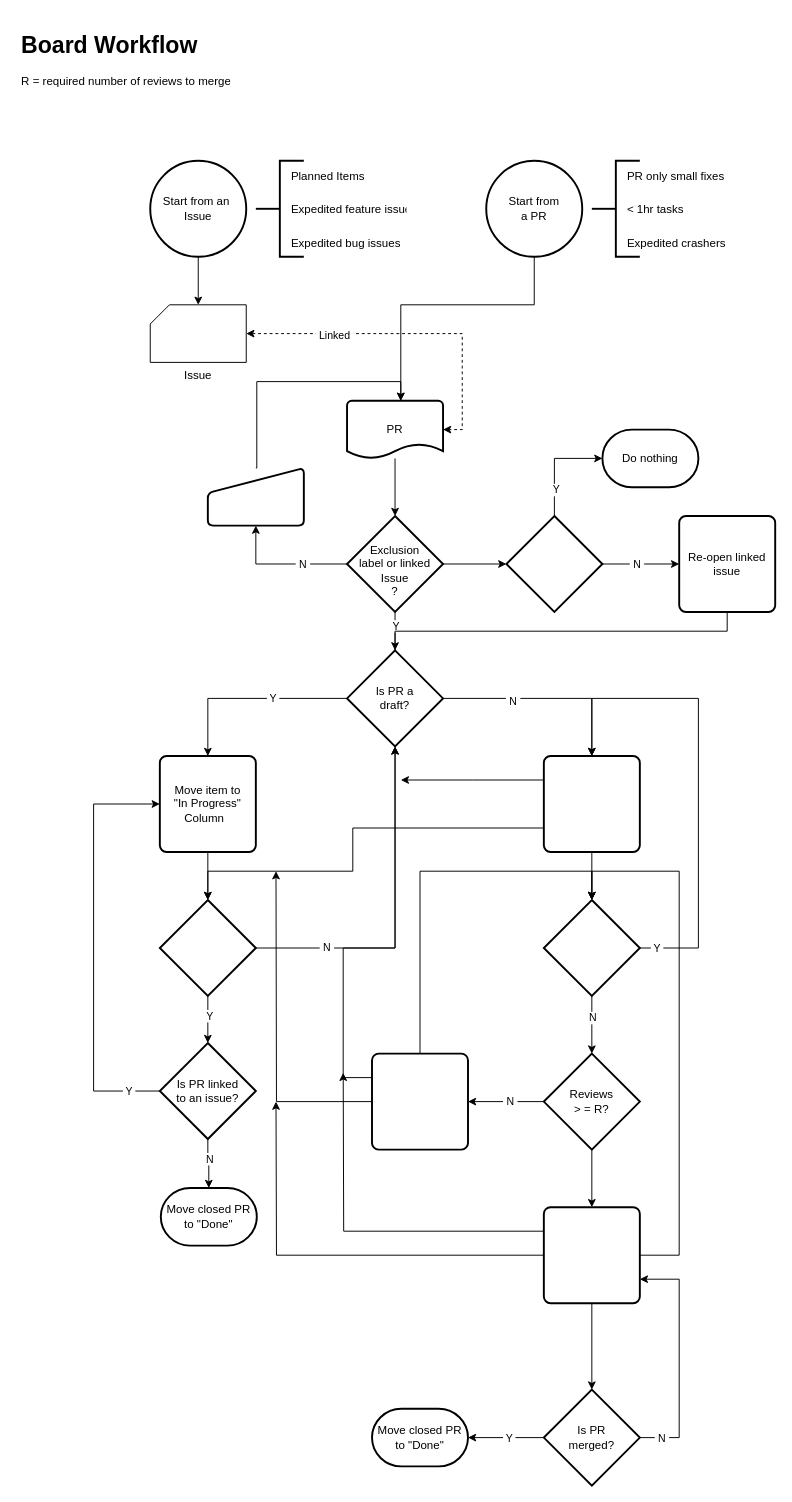
Some shapes in this 792 by 1502 pixel diagram are drawn without their labels. The shapes that lost their labels are listed below. From the top down, each one's centre as x and y in pixels, then its label:
(x=255, y=496): Link issue or add exclusion label
(x=554, y=563): Is linked issue open?
(x=591, y=803): Move item to "Review Required" Column
(x=207, y=947): Is PR closed?
(x=591, y=947): Reviews == 0?
(x=419, y=1101): Move item to "In Review" Column
(x=591, y=1255): Move item to "Approved" Column
